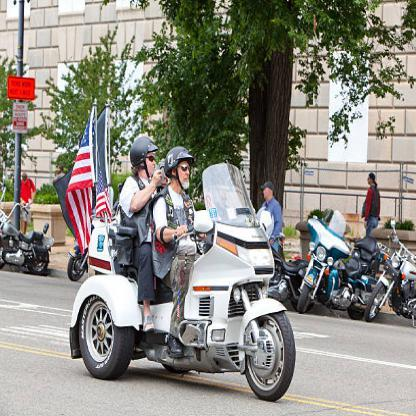Motorcycle: (68, 202, 299, 403)
